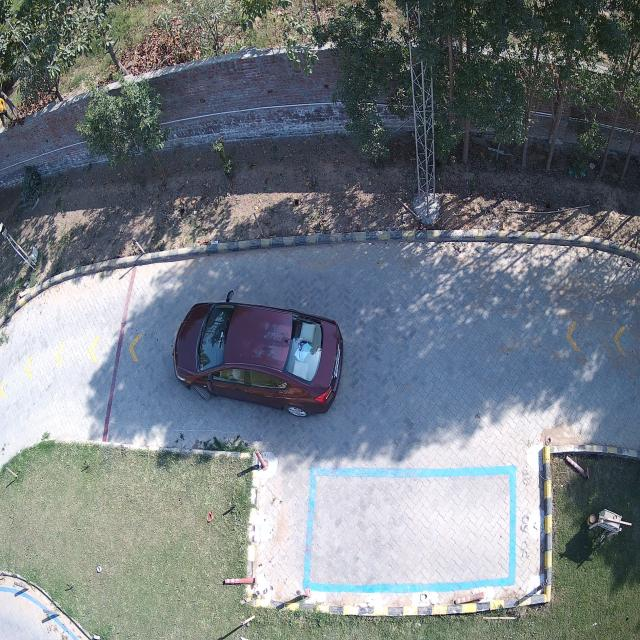car: (172, 292, 344, 417)
